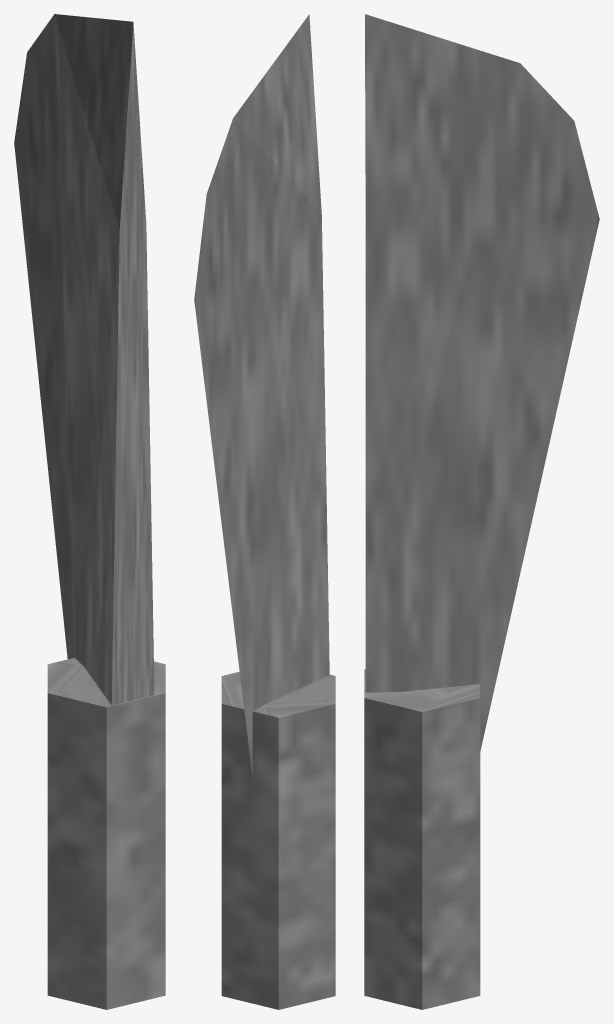
File: Machete.dae
3 views of the same model, side by side, from view 1: azimuth 30°, elevation 25°; view 2: azimuth 150°, elevation 25°; view 3: azimuth 270°, elevation 25° (orthographic). The views are drawn at different scales.
Parts seen in each view (by area): view 1: Head, Handle; view 2: Head, Handle; view 3: Head, Handle.
Boxes of the visible parts, x1,y1,x2,y2 form: Head: [14, 14, 154, 705]; Handle: [47, 658, 165, 1009]; Head: [194, 14, 329, 776]; Handle: [221, 671, 335, 1009]; Head: [365, 14, 599, 750]; Handle: [364, 669, 480, 1009].
Size of the model in its own units: 0.0864 by 0.6864 by 0.1516.
